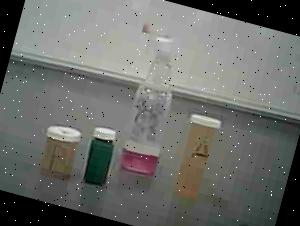Bottle A: (163, 105, 229, 206)
Bottle B: (31, 118, 90, 186)
Bottle C: (72, 118, 124, 189)
hazard: (109, 13, 201, 185)
